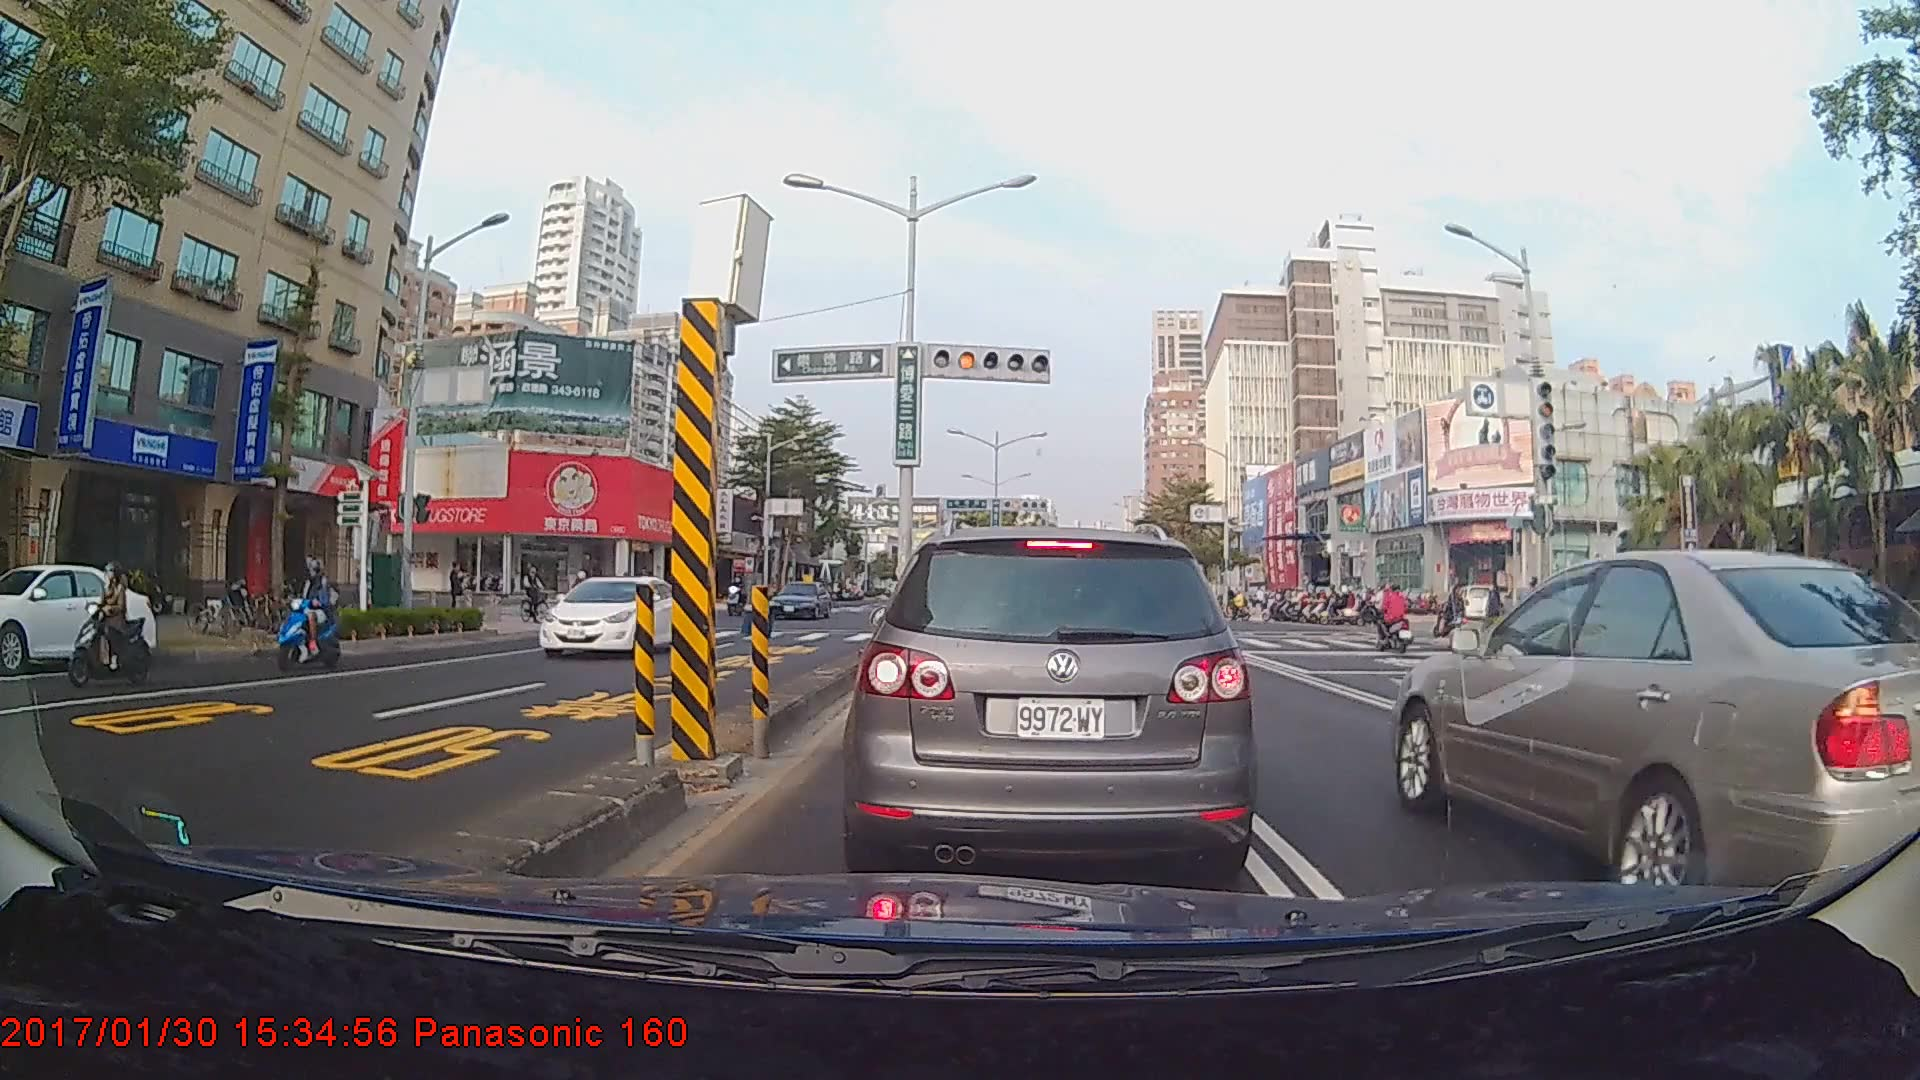pedestrian: (448, 558, 468, 621)
rider: (61, 561, 156, 694), (270, 551, 346, 685), (1371, 582, 1423, 670), (518, 559, 553, 629), (1436, 582, 1473, 646)
vehicle: (1394, 547, 1920, 931), (855, 521, 1252, 874), (0, 561, 178, 671), (537, 572, 685, 659), (767, 578, 830, 620)
